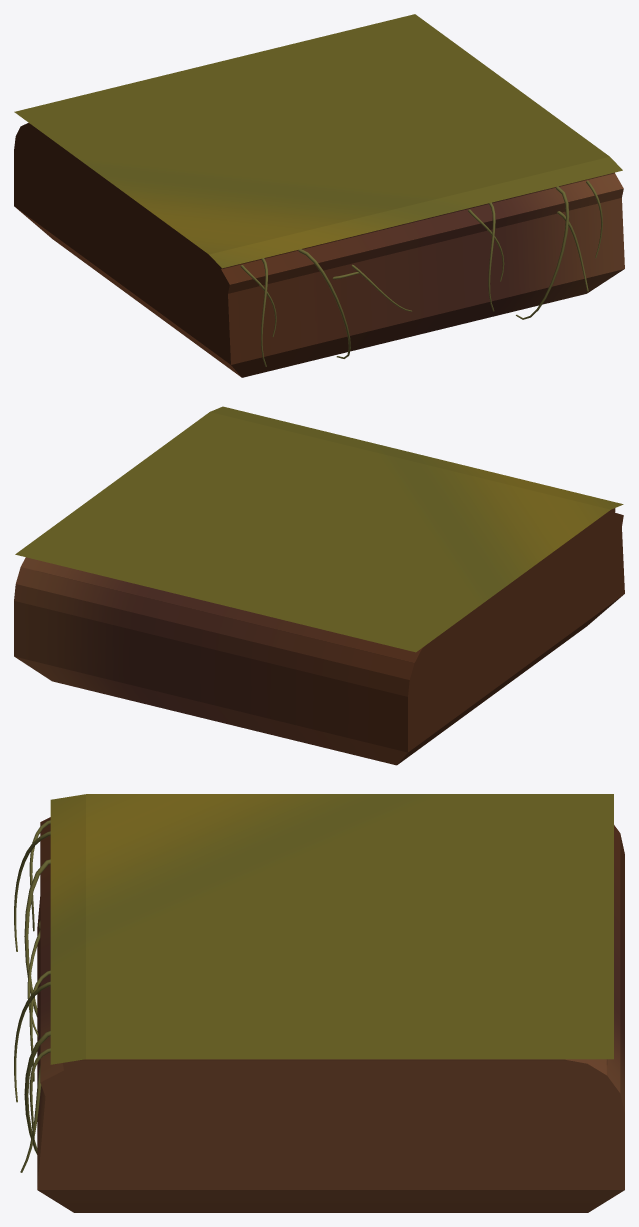
File: zone 2 platform 1.fbx
The picture shows the model from 3 angles, top to bottom: view 1: azimuth 30°, elevation 25°; view 2: azimuth 150°, elevation 25°; view 3: azimuth 270°, elevation 25°; orthographic projection. The views are drawn at different scales.
Visible parts, largest first — view 1: Cube.010; view 2: Cube.010; view 3: Cube.010.
Boxes of the visible parts, x1,y1,x2,y2 form: Cube.010: [14, 14, 624, 377]; Cube.010: [14, 406, 624, 765]; Cube.010: [14, 794, 624, 1212].
Bounding box in the file's own units: 1194 × 378 × 1163.
